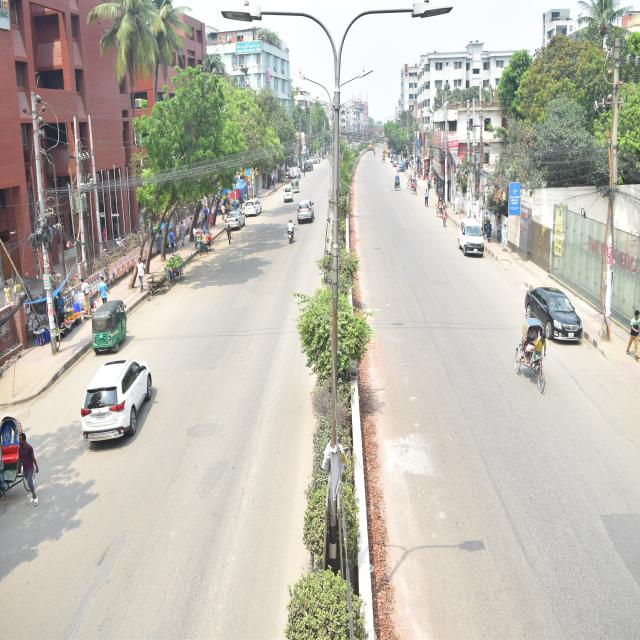car: (54, 317, 174, 469), (514, 271, 611, 380), (454, 202, 515, 280), (295, 196, 329, 233), (231, 188, 271, 213), (225, 200, 253, 234), (278, 182, 300, 212), (300, 153, 319, 178)
motorbike: (280, 205, 302, 256)
pickup-van: (280, 154, 308, 179), (392, 154, 412, 175)
